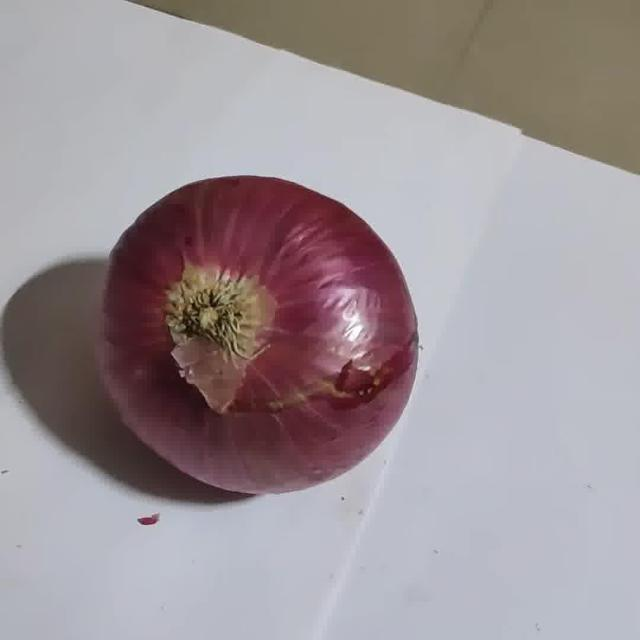Onion: (102, 176, 418, 495)
